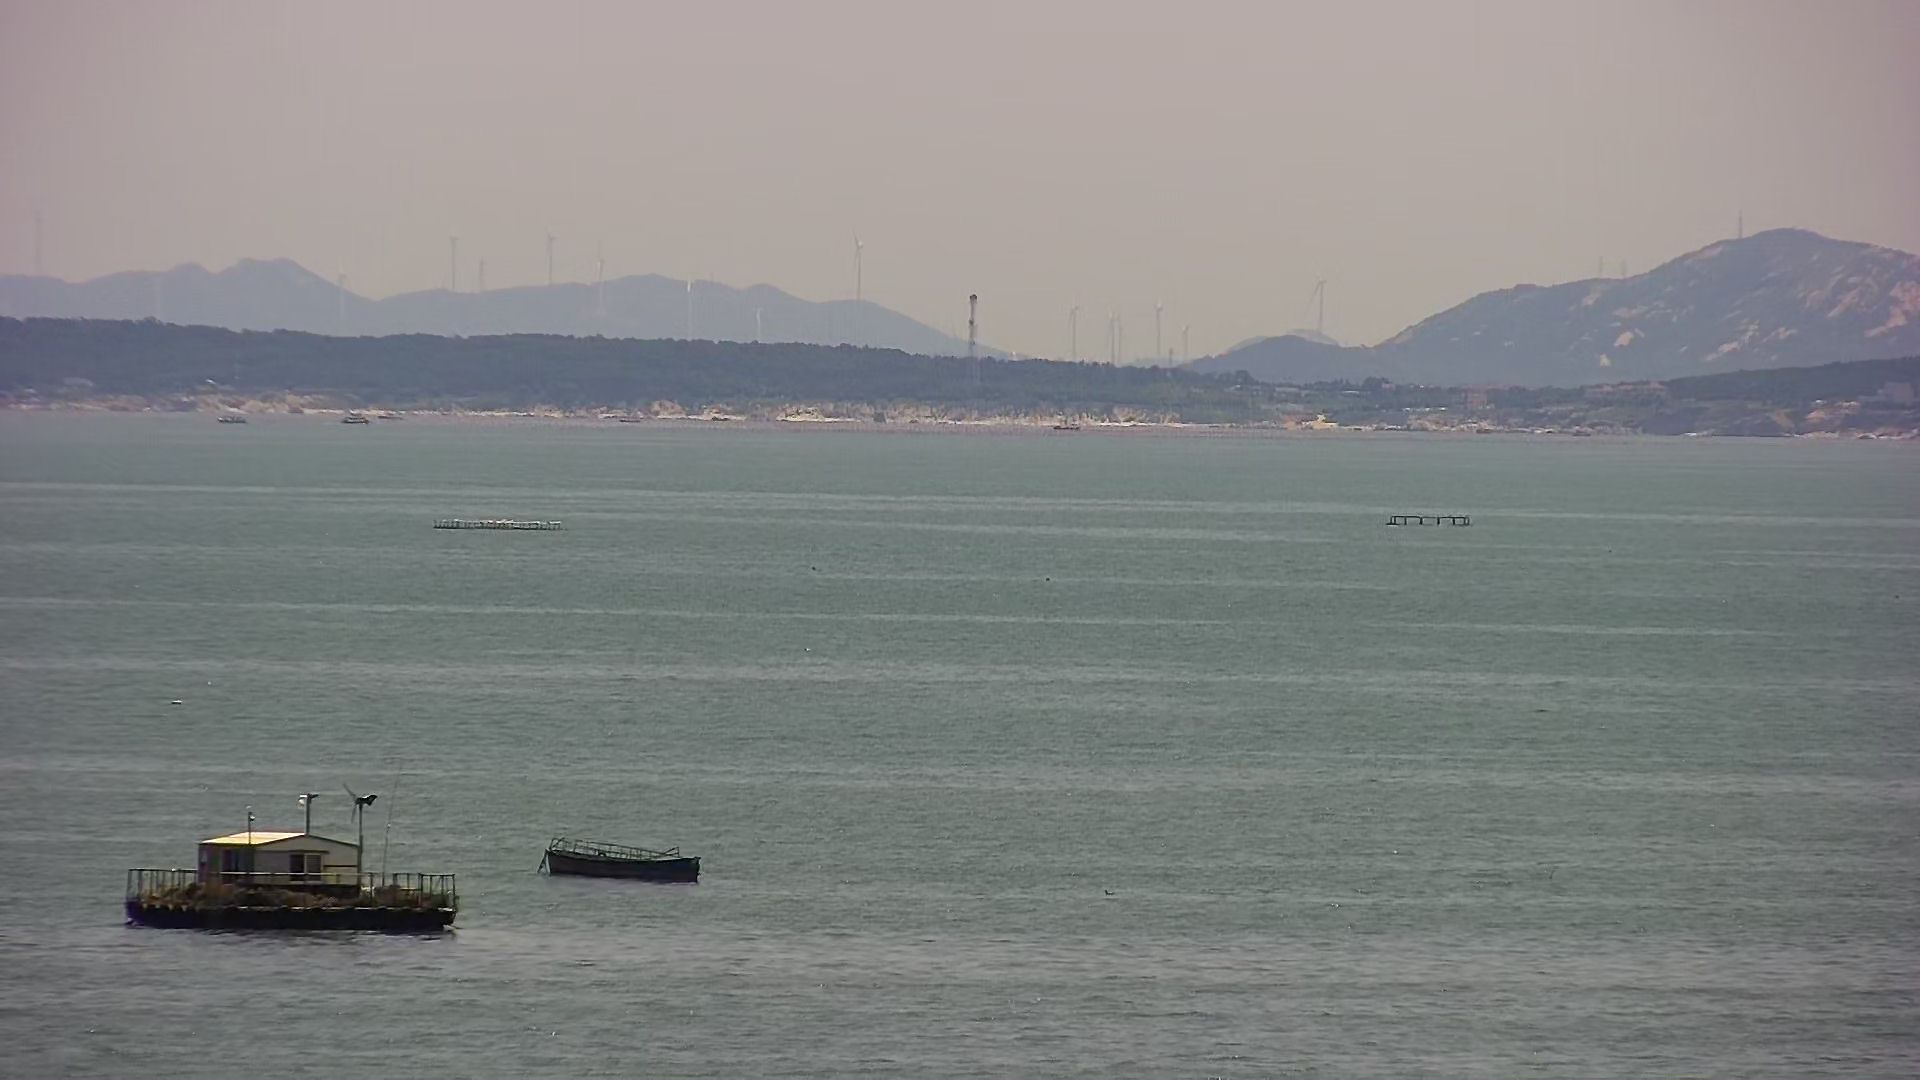boat: (538, 835, 703, 885)
platform: (117, 783, 463, 939), (426, 516, 568, 534), (1385, 512, 1476, 530)
